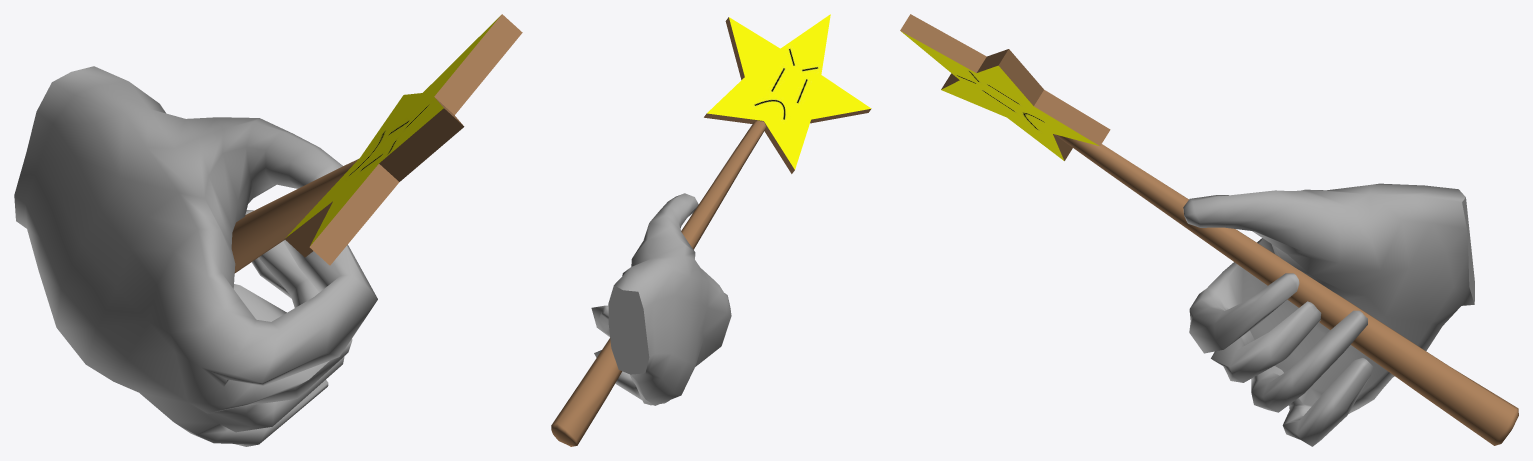
File: r_hand.fbx
The picture shows the model from 3 angles, left to right: view 1: azimuth 30°, elevation 25°; view 2: azimuth 150°, elevation 25°; view 3: azimuth 270°, elevation 25°; orthographic projection. The views are drawn at different scales.
Parts seen in each view (by area): view 1: r_hand_2:Mesh, pCylinder2; view 2: pCylinder2, r_hand_2:Mesh; view 3: r_hand_2:Mesh, pCylinder2.
Part boxes in pixels (left/top/right/bottom): r_hand_2:Mesh: left=14, top=66, right=377, bottom=446; pCylinder2: left=231, top=14, right=522, bottom=273; pCylinder2: left=551, top=14, right=871, bottom=446; r_hand_2:Mesh: left=591, top=193, right=731, bottom=405; r_hand_2:Mesh: left=1183, top=183, right=1474, bottom=446; pCylinder2: left=900, top=14, right=1518, bottom=445.
Size of the model in its own units: 1.18 by 2.27 by 3.1.
